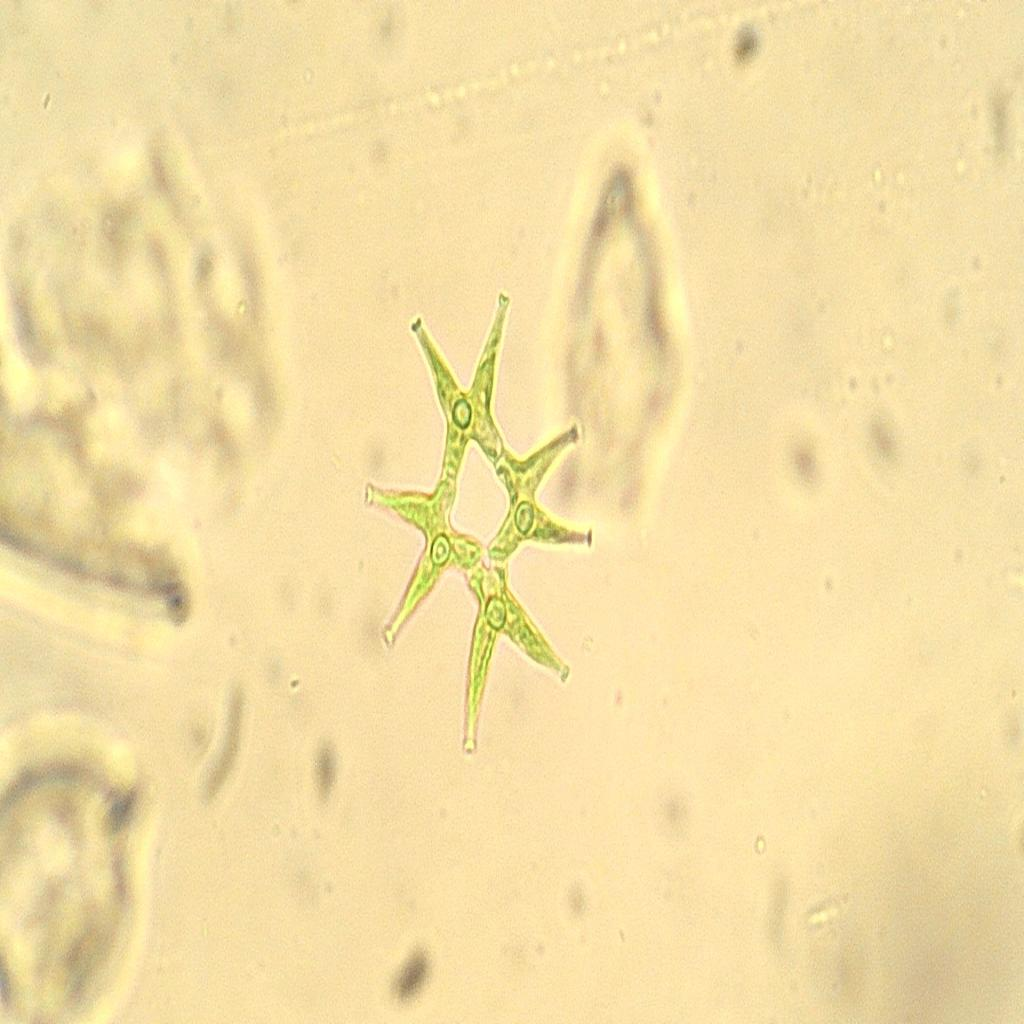Pediastrum_CT: (360, 274, 600, 777)
